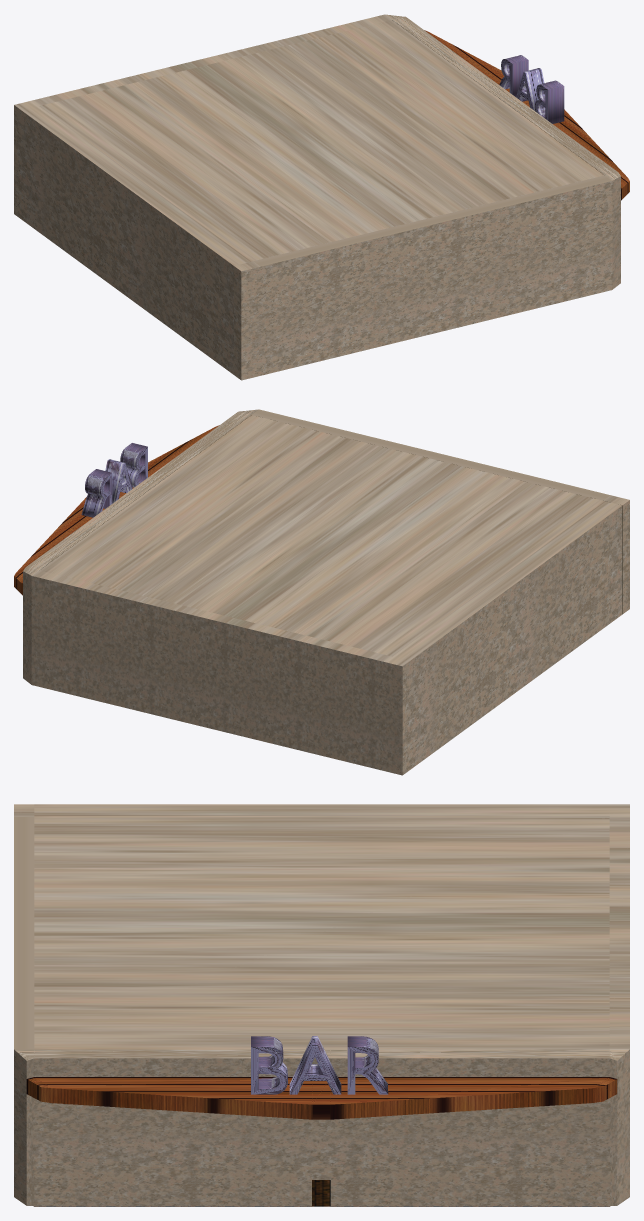
The model's file is Bar.fbx.
3 renders of one model, top to bottom at view 1: azimuth 30°, elevation 25°; view 2: azimuth 150°, elevation 25°; view 3: azimuth 270°, elevation 25°, orthographic. The views are drawn at different scales.
Parts seen in each view (by area): view 1: Cube, Text; view 2: Cube, Text; view 3: Cube, Text, Floor.
Boxes of the visible parts, x1=… form: Cube: x1=14, y1=14, x2=629, y2=380; Text: x1=499, y1=55, x2=564, y2=123; Cube: x1=14, y1=409, x2=629, y2=775; Text: x1=81, y1=443, x2=147, y2=517; Cube: x1=14, y1=804, x2=629, y2=1205; Text: x1=251, y1=1036, x2=388, y2=1094; Floor: x1=33, y1=1180, x2=610, y2=1206.
Size of the model in its own units: 6313 by 1948 by 5844.
46 materials, 22 textured.
